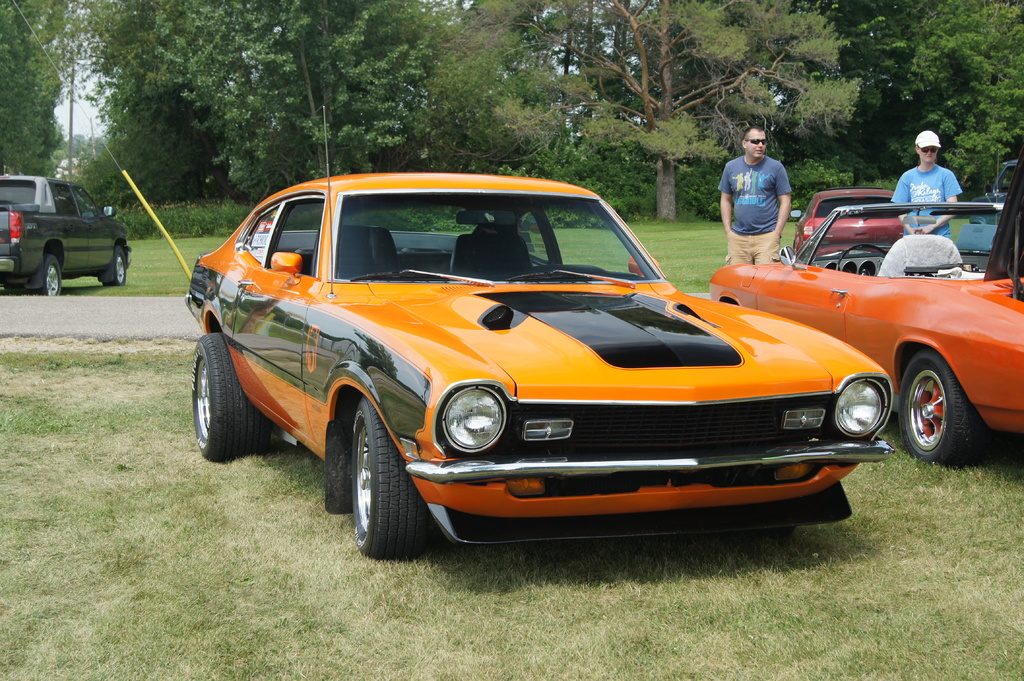Car: (184, 101, 894, 555), (717, 196, 1023, 465), (791, 184, 910, 266)
